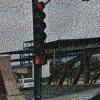traffic lights: (32, 0, 48, 44), (31, 52, 48, 67)
